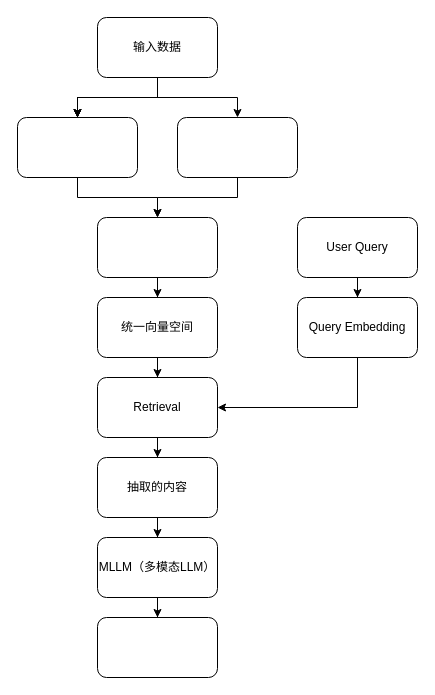
Image size: 435x695. Some labels were removed from this diagram. The centre of each missing label's shape, as x and y in pixels:
"CLIP模型" belongs at point (157, 247).
"图片" belongs at point (237, 147).
"文本" belongs at point (77, 147).
"最终结果" belongs at point (157, 647).
